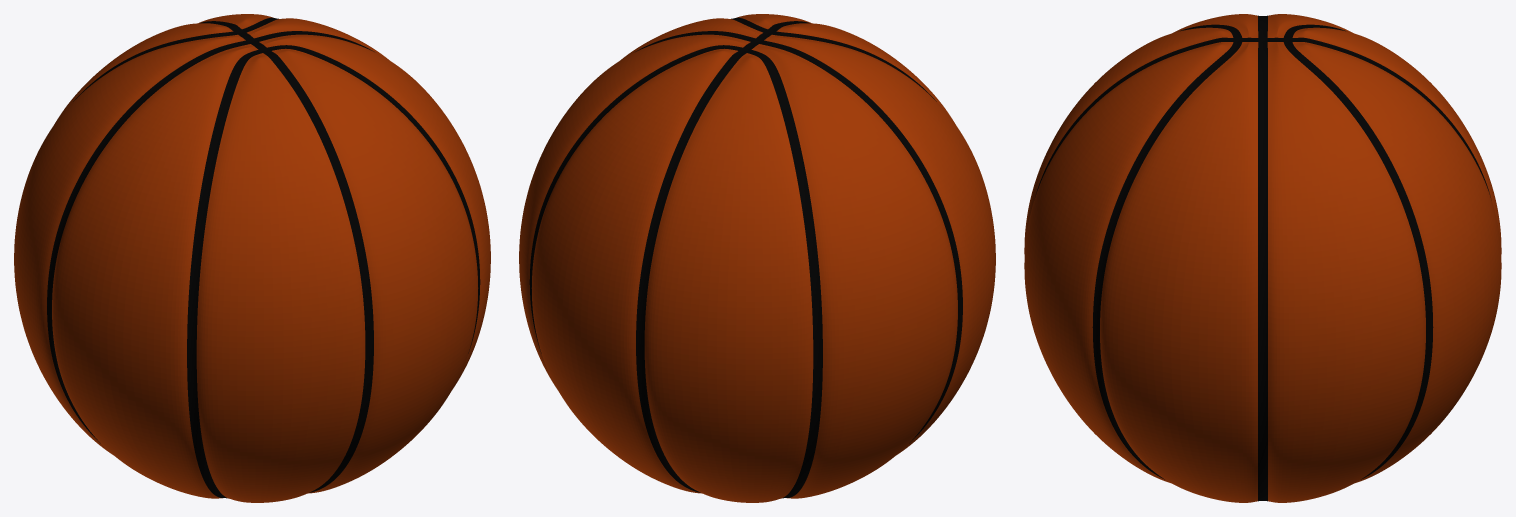
The model's file is basketball.fbx.
3 renders of one model, left to right at view 1: azimuth 30°, elevation 25°; view 2: azimuth 150°, elevation 25°; view 3: azimuth 270°, elevation 25°, orthographic.
Visible parts, largest first — view 1: Sphere; view 2: Sphere; view 3: Sphere.
Boxes of the visible parts, bbox=[...] form: Sphere: bbox=[14, 14, 490, 502]; Sphere: bbox=[519, 14, 995, 502]; Sphere: bbox=[1024, 14, 1501, 502].
Size of the model in its own units: 14.68 by 14.68 by 14.99.
